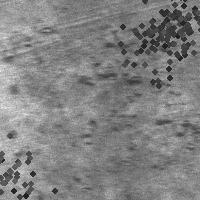rolled-in_scale: (73, 28, 199, 160), (3, 26, 55, 194), (104, 0, 200, 88), (0, 130, 58, 200), (139, 0, 200, 62)
